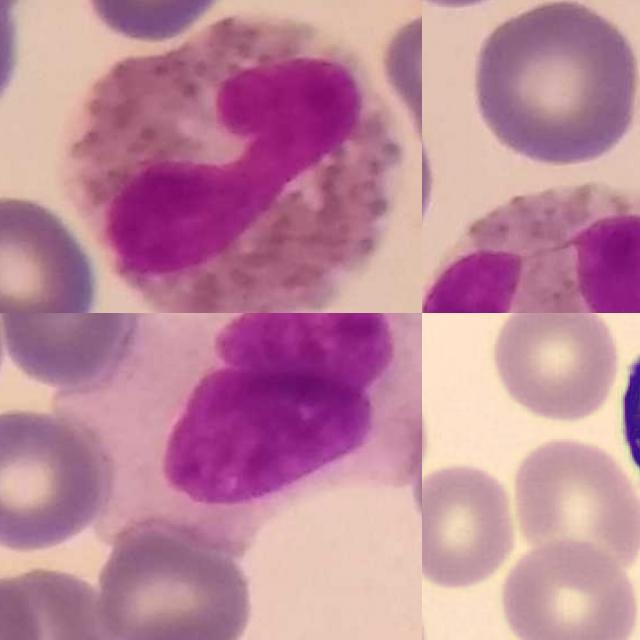Eosinophil: (57, 10, 398, 313), (422, 176, 640, 313)
Monocyte: (78, 313, 422, 555)
RBC: (507, 431, 640, 578), (486, 313, 621, 425), (496, 537, 640, 640), (422, 456, 521, 592)
